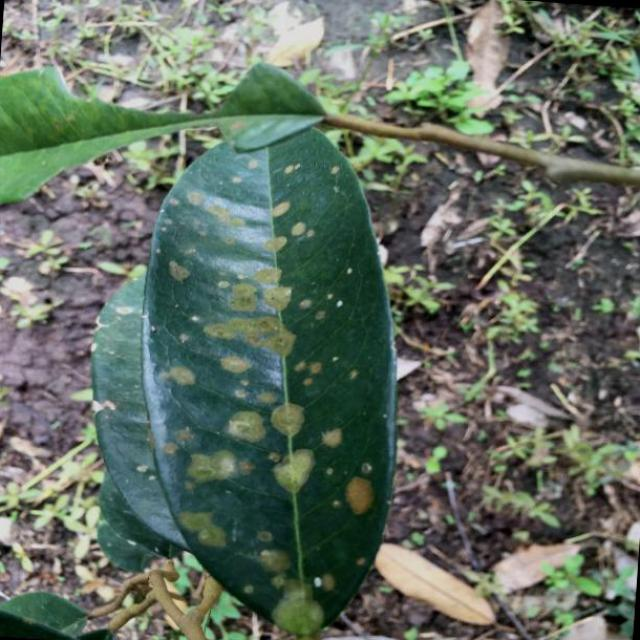Algal Leaf Spot: (114, 96, 434, 640)
